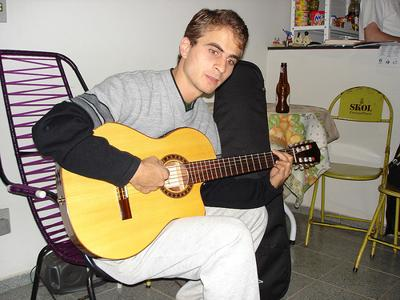person: (32, 9, 295, 300)
